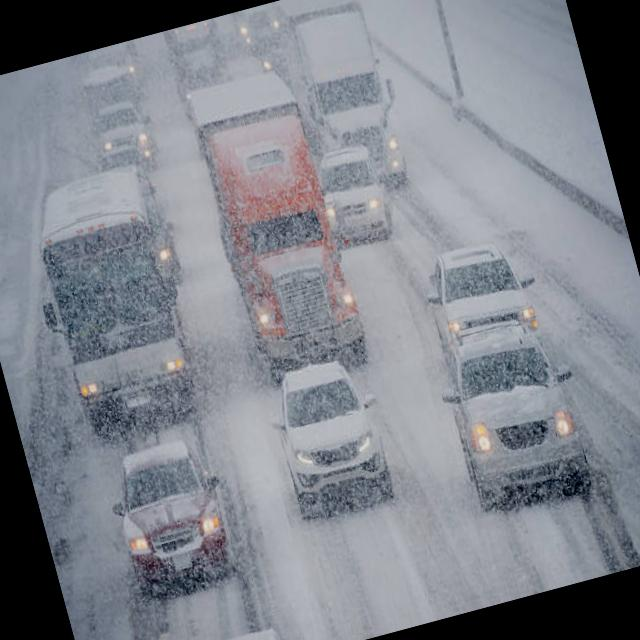Vehicle: (174, 76, 368, 370), (7, 189, 220, 451), (426, 308, 598, 521), (247, 341, 410, 554), (95, 428, 252, 630), (308, 0, 423, 177), (314, 128, 399, 258), (90, 87, 162, 169)
